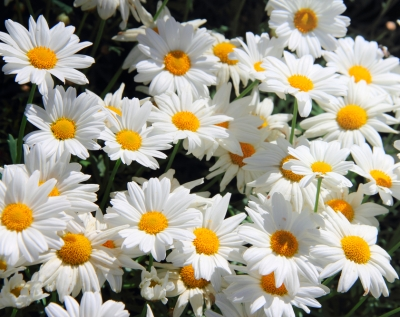papatya: (111, 178, 200, 261)
